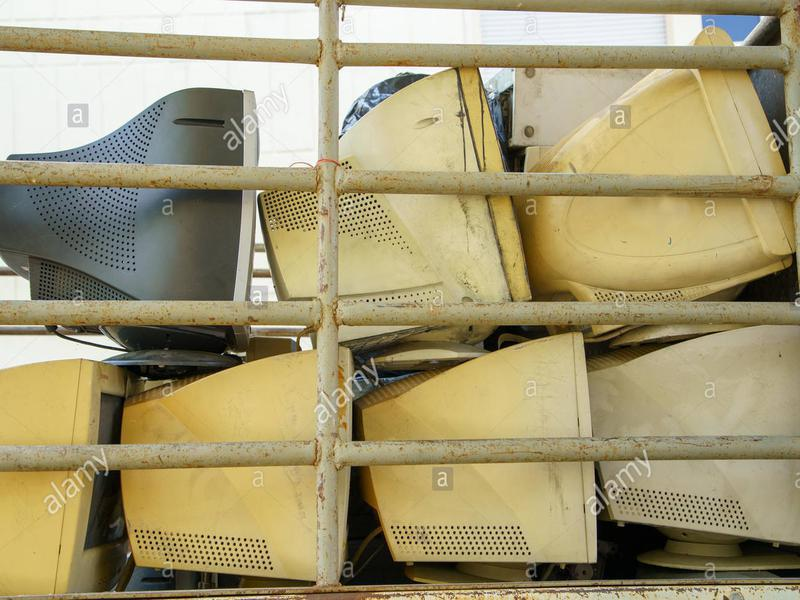tv_pc: (256, 71, 539, 358), (527, 26, 797, 310), (2, 78, 265, 350), (354, 327, 604, 582), (117, 344, 354, 578), (593, 322, 800, 579), (3, 358, 124, 600)
